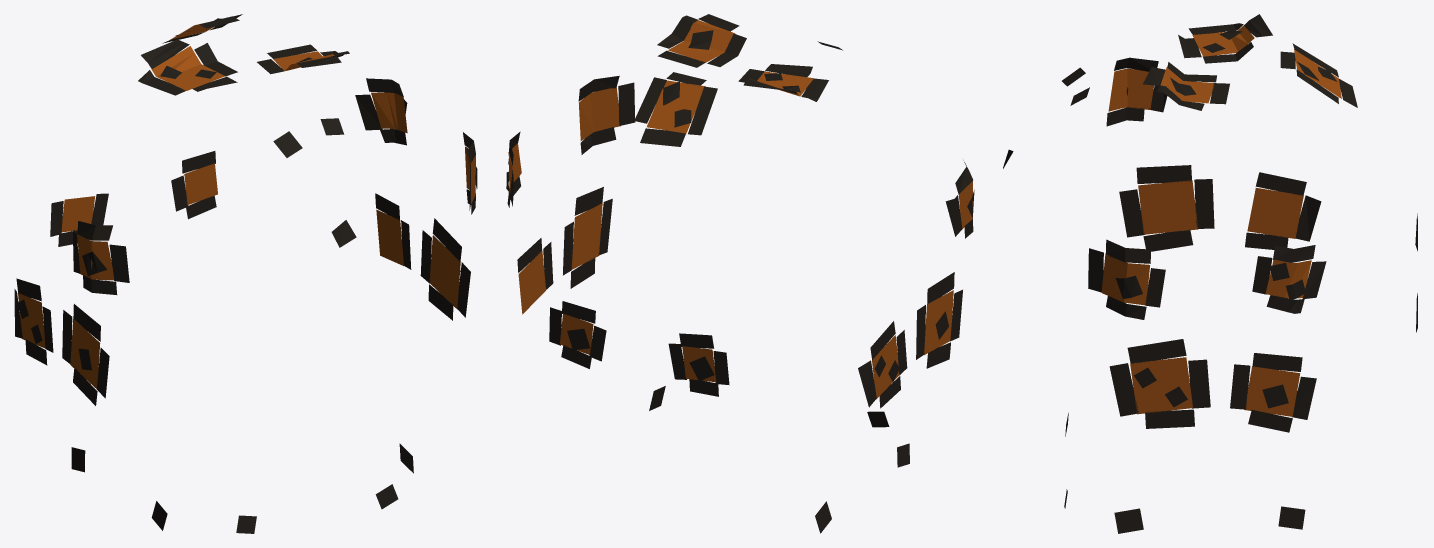
Rendered from custom-rosetas-onca.glb.
3 views of the same model, side by side, from view 1: azimuth 30°, elevation 25°; view 2: azimuth 150°, elevation 25°; view 3: azimuth 270°, elevation 25° (orthographic).
Parts seen in each view (by area): view 1: roseta-dorso-1, roseta-flanco-esq-1, roseta-ombro-dir, roseta-flanco-dir-1, roseta-flanco-esq-3, roseta-flanco-dir-2, roseta-anca-esq, roseta-anca-dir, roseta-flanco-esq-2, roseta-dorso-2, roseta-ombro-esq, roseta-dorso-3; view 2: roseta-dorso-3, roseta-flanco-esq-1, roseta-dorso-2, roseta-ombro-esq, roseta-flanco-dir-1, roseta-anca-dir, roseta-anca-esq, roseta-flanco-dir-2, roseta-dorso-1, roseta-flanco-esq-2, roseta-ombro-dir, roseta-flanco-esq-3; view 3: roseta-flanco-esq-1, roseta-flanco-dir-1, roseta-flanco-esq-2, roseta-ombro-esq, roseta-flanco-dir-2, roseta-flanco-esq-3, roseta-ombro-dir, roseta-dorso-1, roseta-dorso-2, roseta-dorso-3, pinta-pata-dianteira-esq, pinta-pata-traseira-esq.
Boxes of the visible parts, x1,y1,x2,y2 form: roseta-dorso-1: (138, 39, 237, 95); roseta-flanco-esq-1: (420, 218, 470, 320); roseta-ombro-dir: (73, 221, 129, 294); roseta-flanco-dir-1: (62, 304, 109, 405); roseta-flanco-esq-3: (355, 78, 407, 145); roseta-flanco-dir-2: (14, 278, 53, 365); roseta-anca-esq: (171, 151, 217, 219); roseta-anca-dir: (50, 193, 108, 246); roseta-flanco-esq-2: (375, 193, 411, 269); roseta-dorso-2: (257, 44, 349, 74); roseta-ombro-esq: (463, 132, 477, 214); roseta-dorso-3: (162, 14, 242, 43); roseta-dorso-3: (634, 72, 717, 146); roseta-flanco-esq-1: (563, 187, 612, 288); roseta-dorso-2: (657, 14, 746, 67); roseta-ombro-esq: (578, 75, 635, 154); roseta-flanco-dir-1: (916, 272, 962, 368); roseta-anca-dir: (668, 333, 729, 396); roseta-anca-esq: (549, 301, 606, 368); roseta-flanco-dir-2: (858, 321, 907, 408); roseta-dorso-1: (738, 64, 828, 101); roseta-flanco-esq-2: (517, 238, 553, 314); roseta-ombro-dir: (945, 160, 974, 238); roseta-flanco-esq-3: (506, 131, 521, 207); roseta-flanco-esq-1: (1109, 339, 1210, 428); roseta-flanco-dir-1: (1119, 165, 1214, 251); roseta-flanco-esq-2: (1230, 353, 1316, 432); roseta-ombro-esq: (1088, 239, 1165, 319); roseta-flanco-dir-2: (1245, 172, 1321, 249); roseta-flanco-esq-3: (1252, 245, 1326, 313); roseta-ombro-dir: (1106, 57, 1167, 126); roseta-dorso-1: (1178, 14, 1272, 63); roseta-dorso-2: (1143, 62, 1229, 110); roseta-dorso-3: (1280, 43, 1357, 107); pinta-pata-dianteira-esq: (1114, 508, 1143, 533); pinta-pata-traseira-esq: (1278, 506, 1305, 529).
Bounding box in the file's own units: 1.39 × 1.43 × 1.28.
